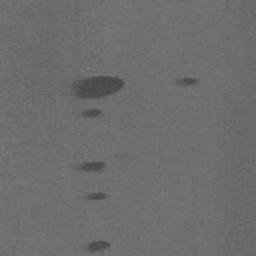Oil spot: (55, 74, 127, 104), (79, 239, 111, 255), (76, 160, 109, 174), (169, 76, 204, 88), (76, 108, 104, 119), (82, 191, 109, 202)
